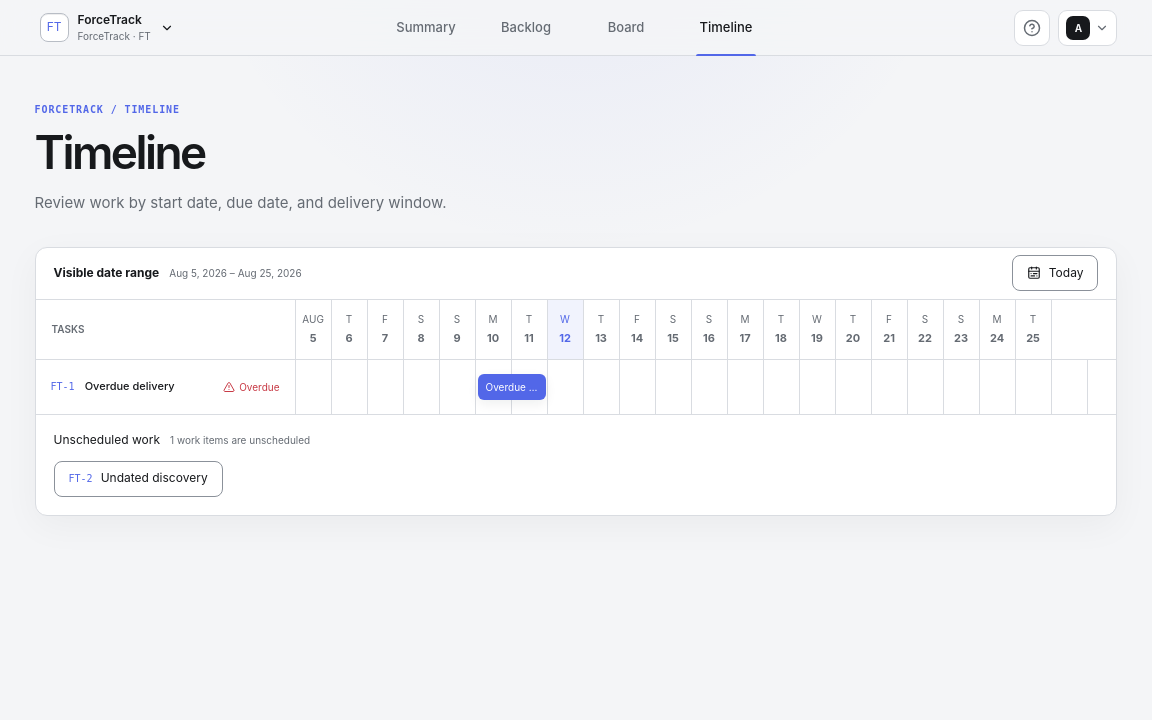
Timeline page › opens the shared task dialog from the unscheduled area
The image size is (1152, 720).
Click the button "FT-2 Undated discovery".
click(138, 478)  # box [54,460,223,496]
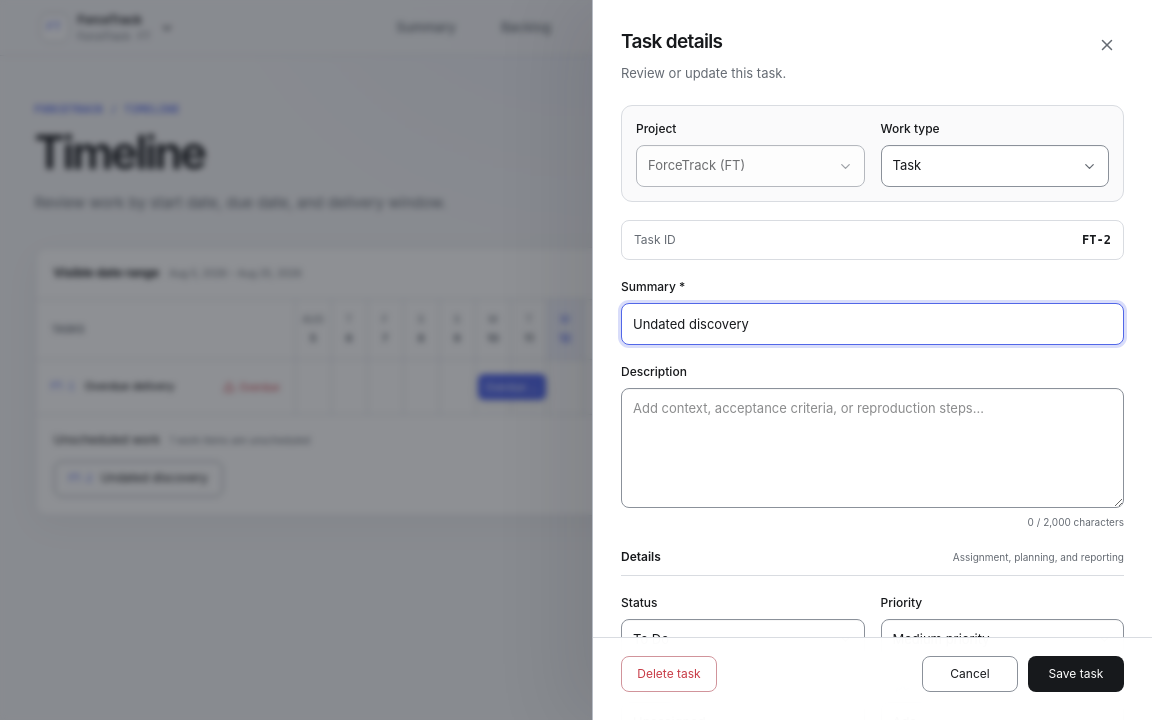
Now the dialog "Task details" is shown, box [592,0,1151,719]
